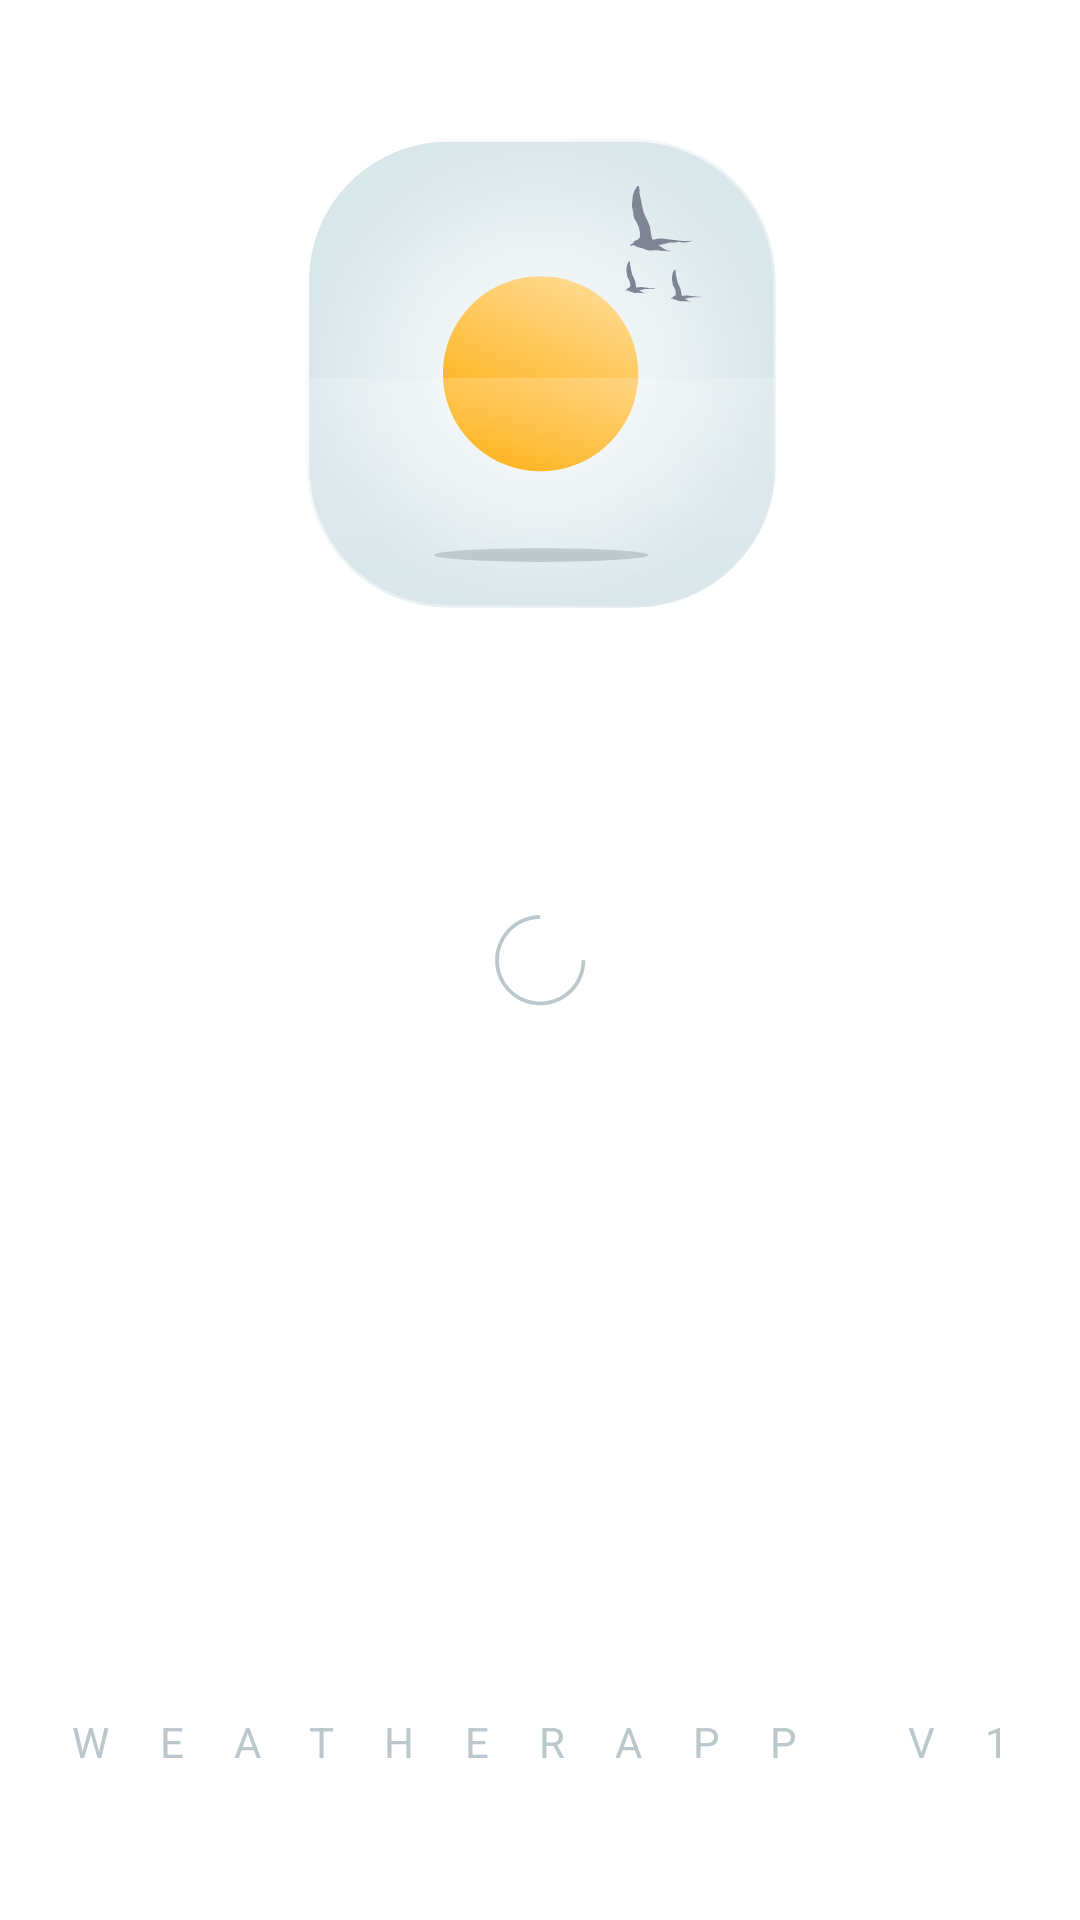

Locate icon controls on the screen. Image size 1080px x 1920px, boxes as (x1, y1, x2, y2).
progress bar ring: (495, 915, 585, 1005)
